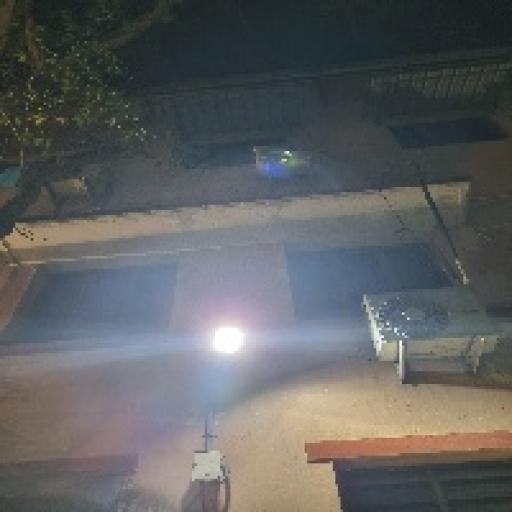Working: (204, 320, 249, 360)
